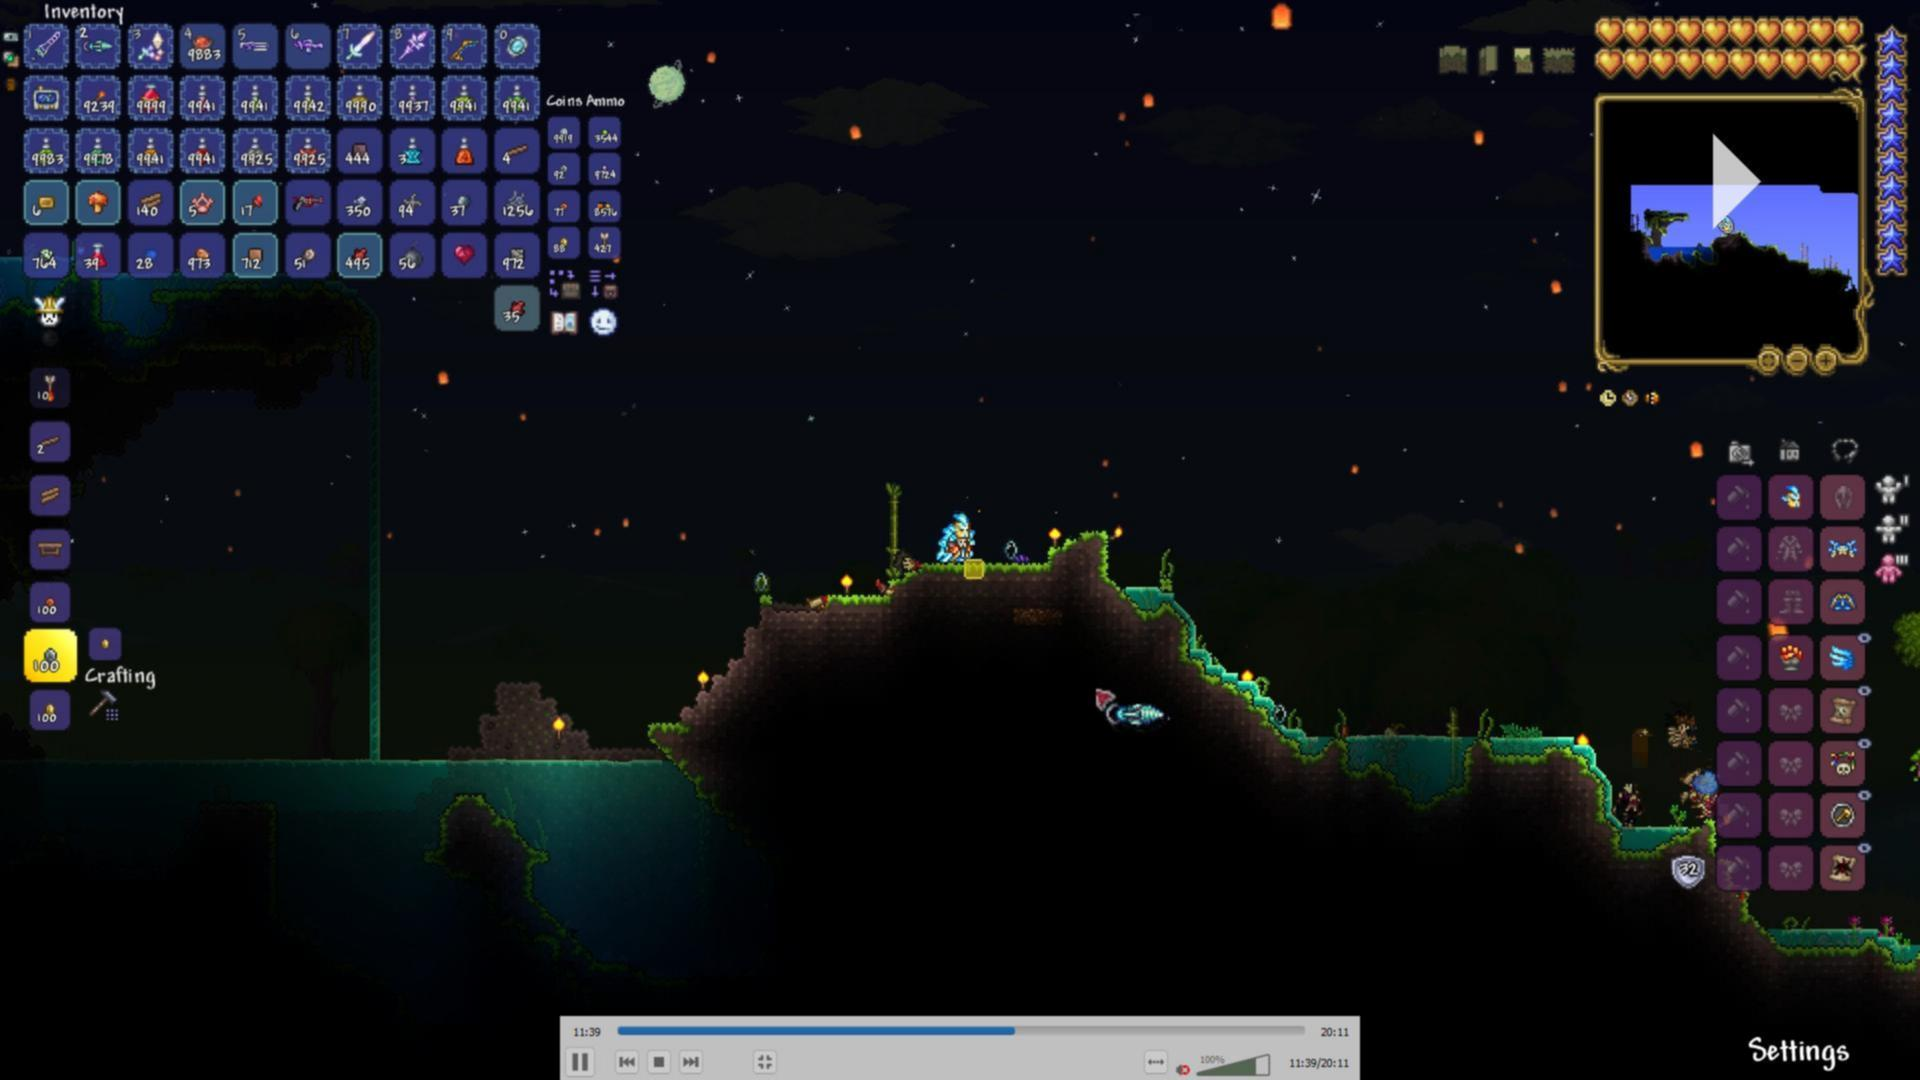lens: (752, 564, 771, 593), (1002, 535, 1022, 560)
mirror: (504, 30, 530, 59)
